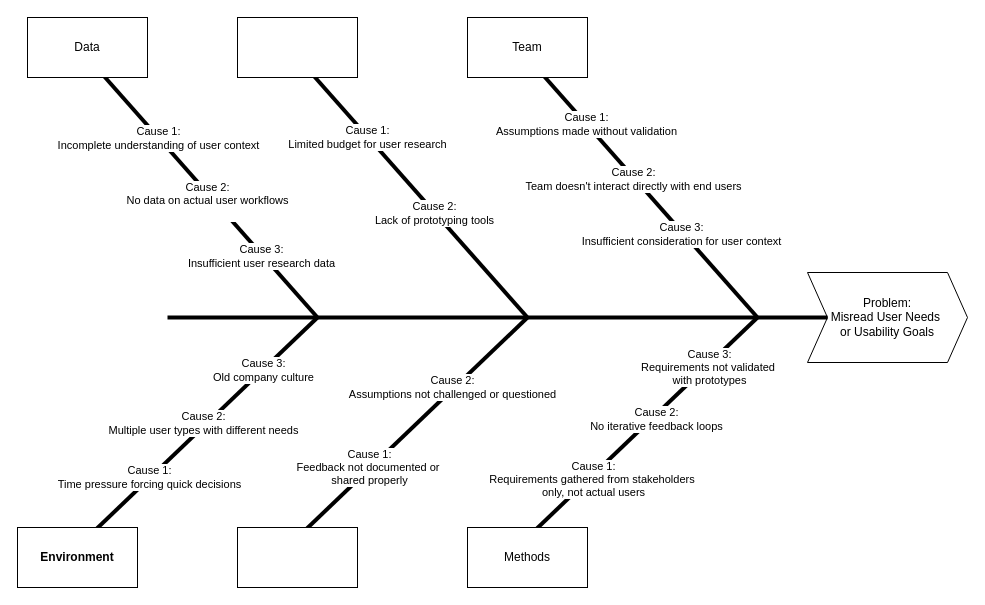
The diagram is 985 pixels wide and 605 high, and some of its shapes have lost their labels. Each missing label, with the box of its shape:
Communication: (236, 526, 358, 588)
Tools & Resources: (236, 16, 358, 78)
